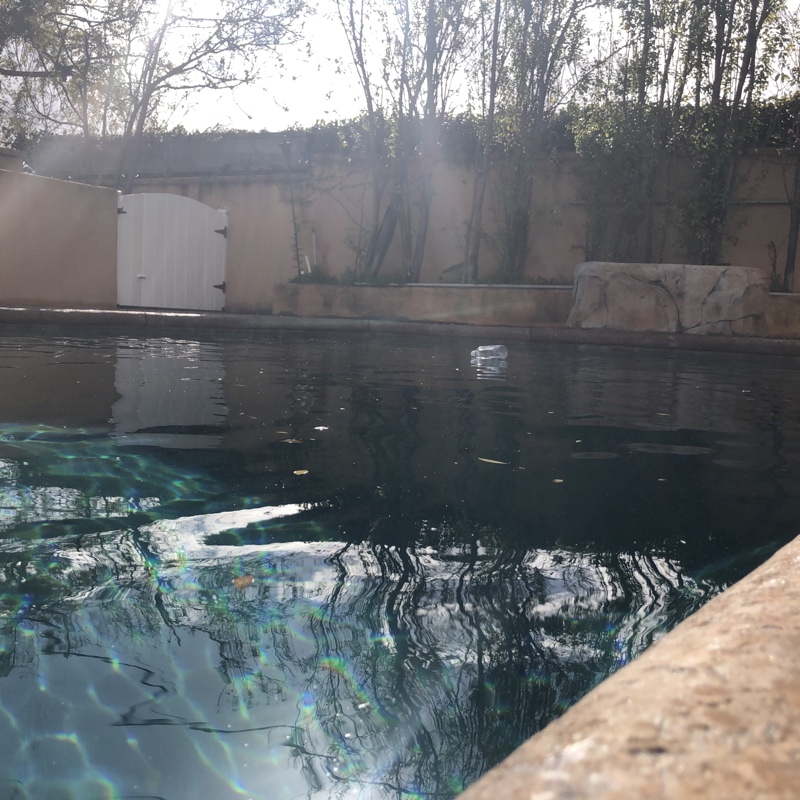Plastic Bottle: (467, 341, 510, 362)
